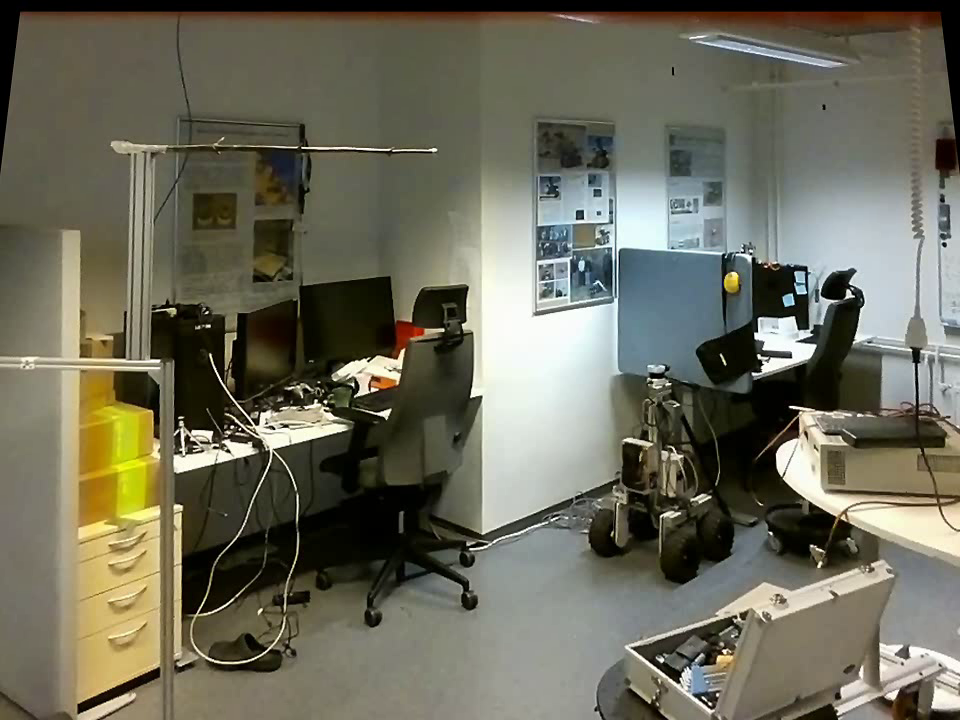aluminum_frame: (116, 151, 162, 359), (156, 355, 176, 718), (931, 115, 948, 324), (1, 352, 162, 372)
branch: (175, 132, 428, 164)
